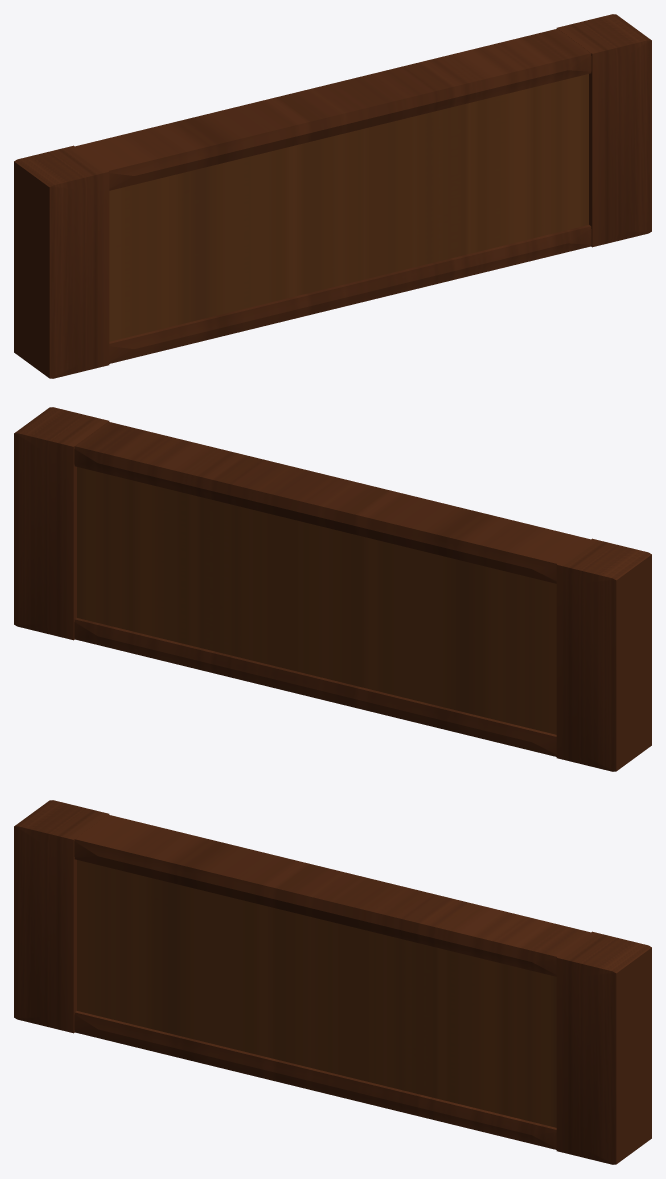
The model's file is Half_Half_Wall_Wood.fbx.
3 views of the same model, one above another, from view 1: azimuth 30°, elevation 25°; view 2: azimuth 150°, elevation 25°; view 3: azimuth 330°, elevation 25° (orthographic).
Visible parts, largest first — view 1: Half_Half_Wall_Wood; view 2: Half_Half_Wall_Wood; view 3: Half_Half_Wall_Wood.
Boxes of the visible parts, x1=… form: Half_Half_Wall_Wood: x1=14, y1=14, x2=651, y2=378; Half_Half_Wall_Wood: x1=14, y1=407, x2=651, y2=771; Half_Half_Wall_Wood: x1=14, y1=800, x2=651, y2=1164.
Size of the model in its own units: 212 by 64.99 by 23.4.
